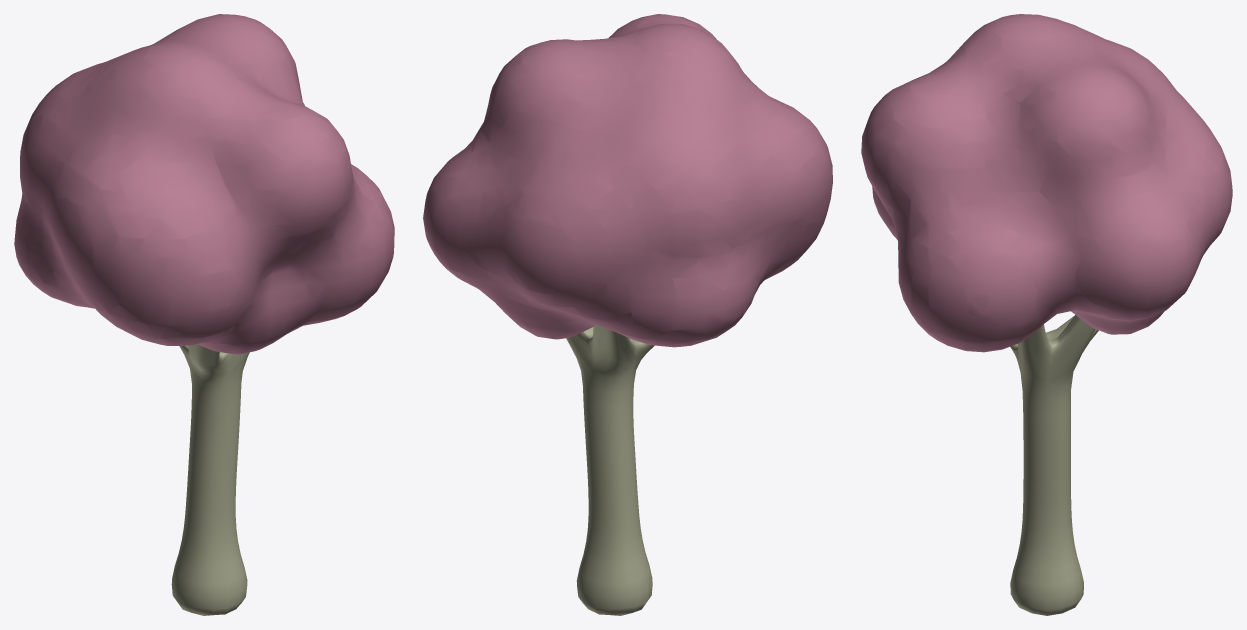
Rendered from tree.fbx.
3 renders of one model, left to right at view 1: azimuth 30°, elevation 25°; view 2: azimuth 150°, elevation 25°; view 3: azimuth 270°, elevation 25°, orthographic. The views are drawn at different scales.
Visible parts, largest first — view 1: Mball.016, Cube; view 2: Mball.016, Cube; view 3: Mball.016, Cube.
Boxes of the visible parts, x1,y1,x2,y2 form: Mball.016: [14, 14, 394, 354]; Cube: [171, 344, 249, 615]; Mball.016: [423, 14, 832, 347]; Cube: [566, 324, 654, 615]; Mball.016: [861, 14, 1232, 352]; Cube: [1010, 315, 1098, 615].
Bounding box in the file's own units: 778 × 1372 × 814.
